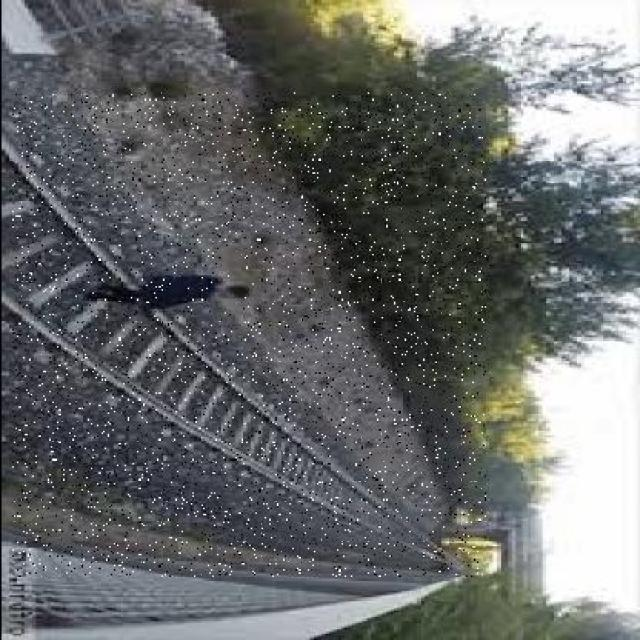rail: (12, 93, 485, 576)
